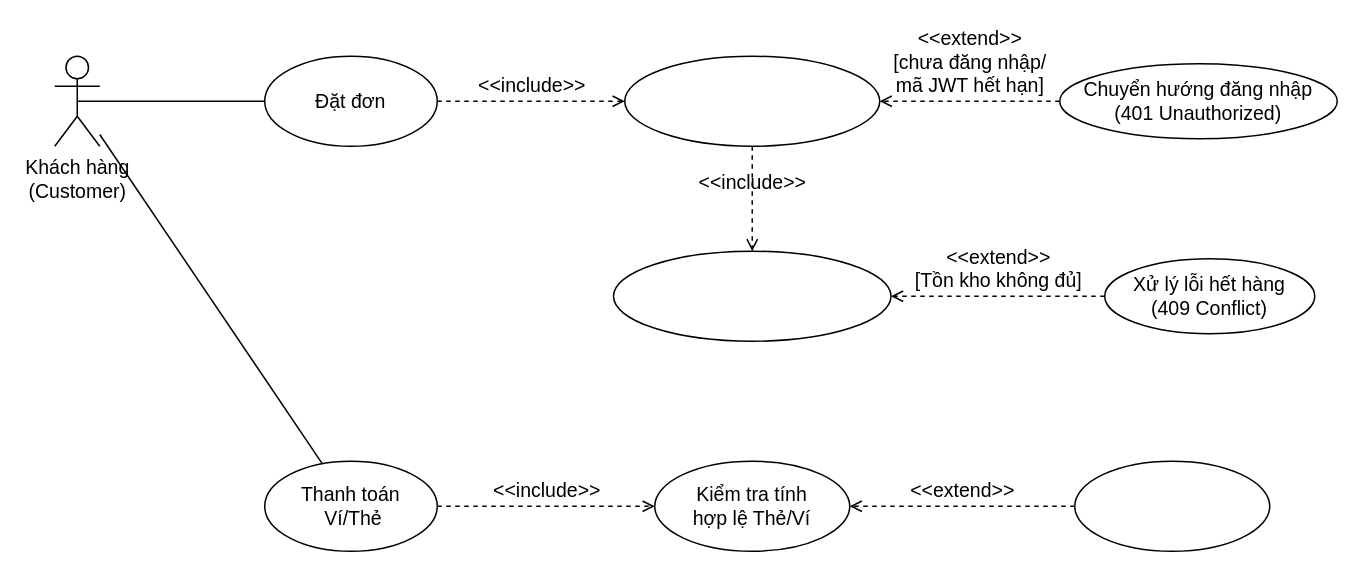
Some shapes in this 1364 by 578 pixel diagram are drawn without their labels. The shapes that lost their labels are listed below. From the top down, each one's centre as x and y in pixels, then its label:
At (x=751, y=100): "Xác thực JWT (JwtAuthGuard)".
At (x=751, y=295): "Kiểm tra & trừ tồn kho (Transaction / $transaction)".
At (x=1171, y=505): "Xử lí thanh toán thất bại".
